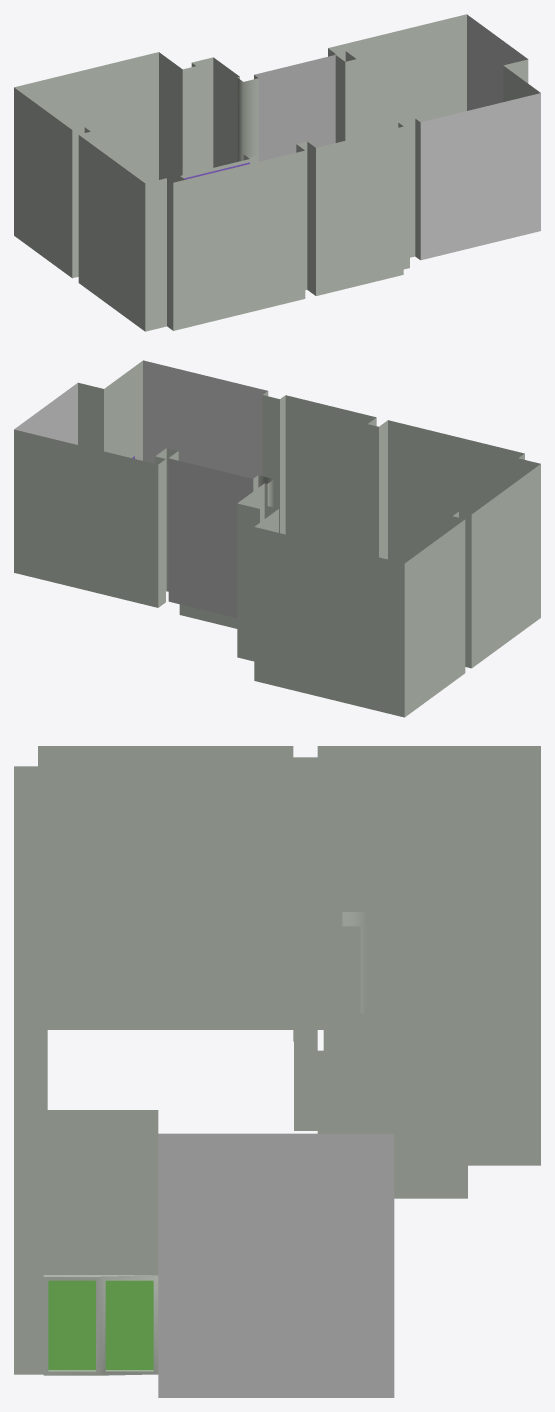
Rendered from Pared.fbx.
3 renders of one model, top to bottom at view 1: azimuth 30°, elevation 25°; view 2: azimuth 150°, elevation 25°; view 3: azimuth 270°, elevation 25°, orthographic. The views are drawn at different scales.
Parts seen in each view (by area): view 1: Paredes; view 2: Paredes; view 3: Paredes.
Boxes of the visible parts, x1,y1,x2,y2 form: Paredes: (14, 14, 540, 331); Paredes: (14, 360, 540, 717); Paredes: (14, 746, 540, 1397).
Bounding box in the file's own units: 23242 × 7952 × 13358.
